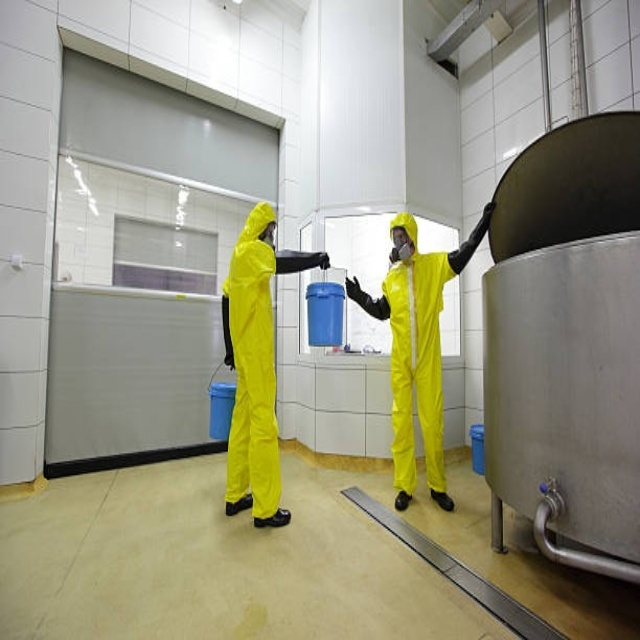Gafas: (259, 222, 276, 247), (392, 230, 409, 248)
Guantes: (444, 196, 496, 282), (343, 271, 391, 328), (273, 242, 333, 273), (219, 292, 241, 375)
Mascara: (393, 239, 412, 263), (266, 227, 276, 251)
